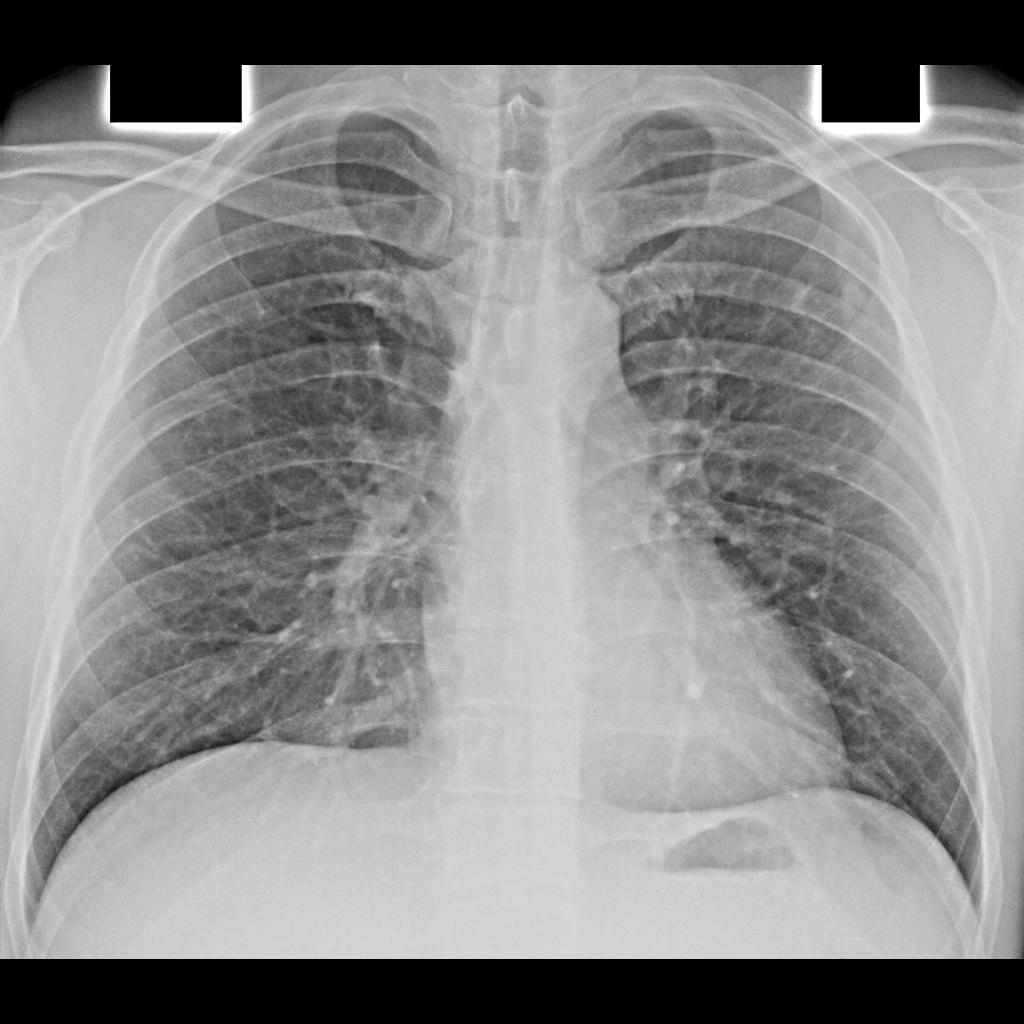Nodule: (832, 274, 874, 316)
